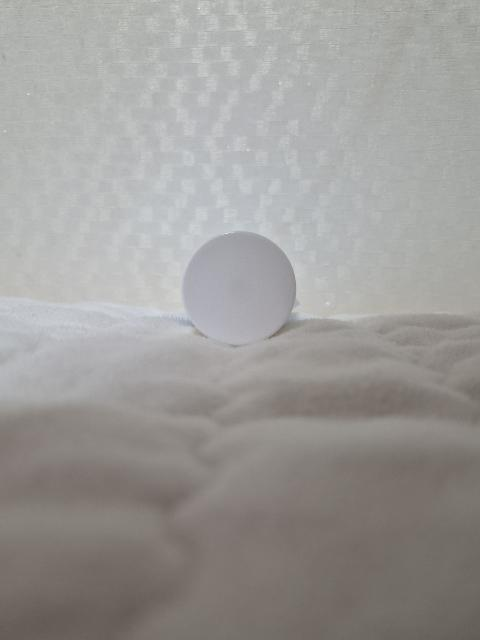handcream: (181, 231, 300, 345)
